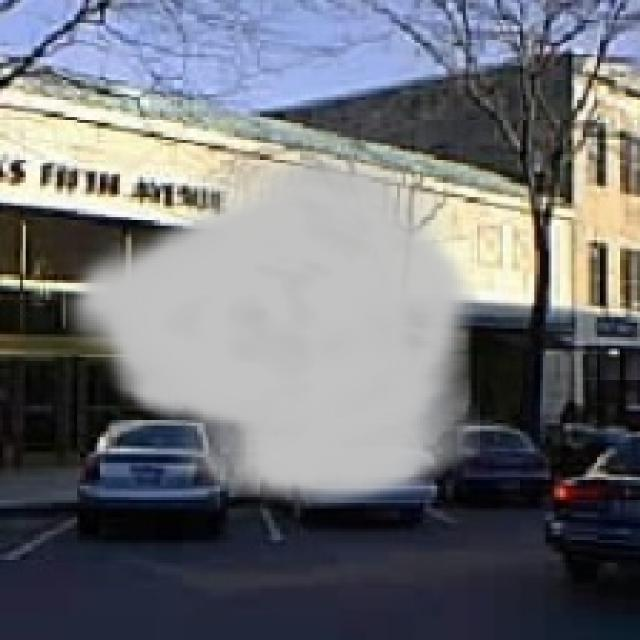Smoke: (60, 140, 480, 509)
